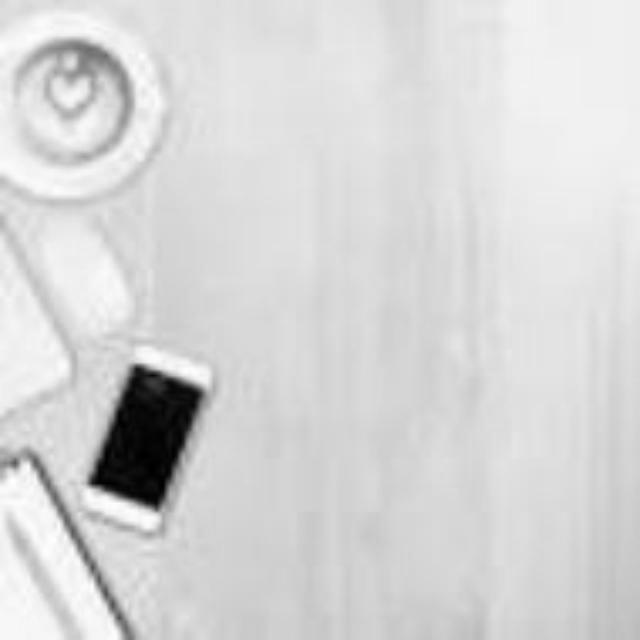fake: (76, 298, 224, 568)
